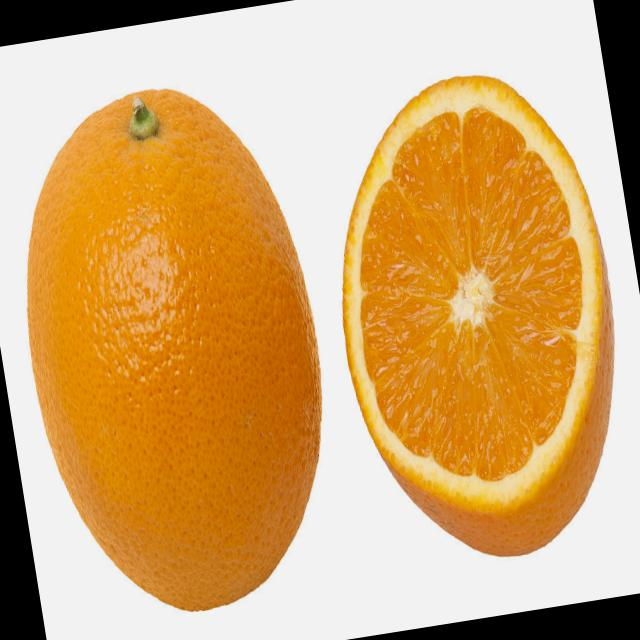orange: (0, 72, 364, 637)
